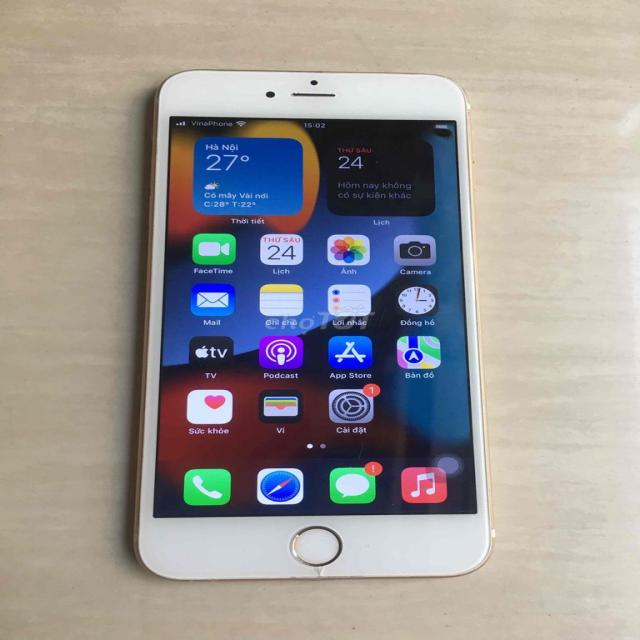screen_defect: (300, 558, 333, 584)
